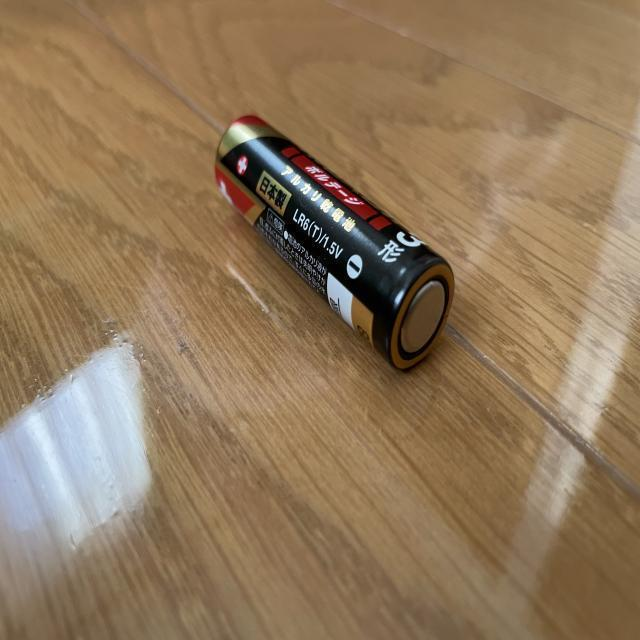Hazard: (213, 113, 460, 376)
